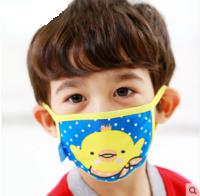OK: (54, 73, 163, 182)
